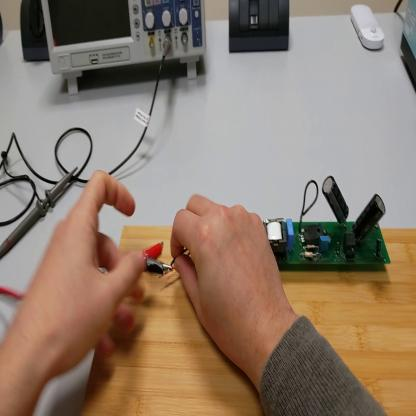hand: (26, 169, 151, 379), (170, 195, 288, 371)
high voltage board: (166, 174, 390, 282)
oscilloscope: (41, 3, 208, 94)
oscilloscope probe tip: (2, 167, 79, 261)
socket: (18, 3, 51, 65)
welder station: (402, 2, 416, 93)
working area: (81, 229, 416, 416)
